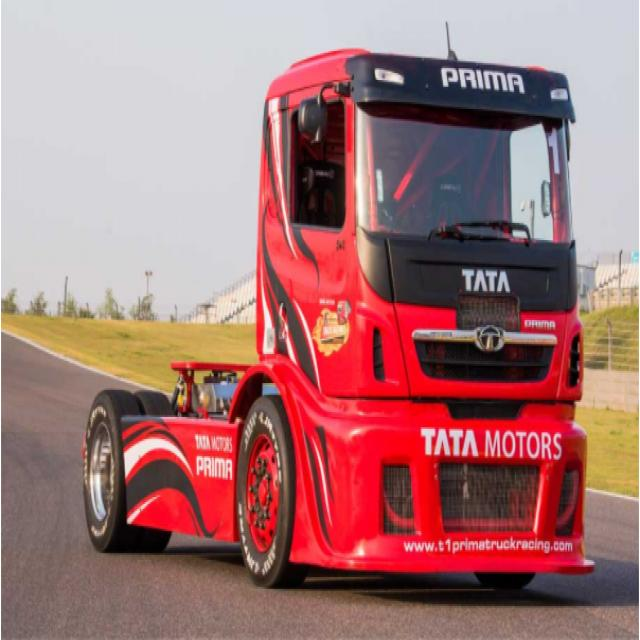Truck: (88, 53, 592, 592)
